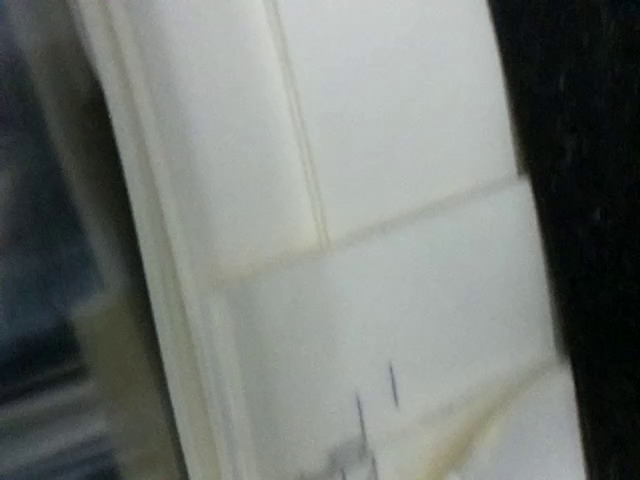not_sure: (280, 385, 383, 479)
